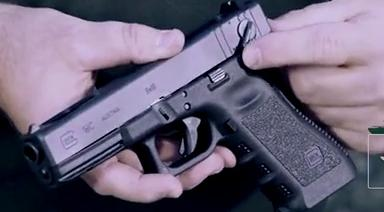gun: (1, 1, 384, 212)
